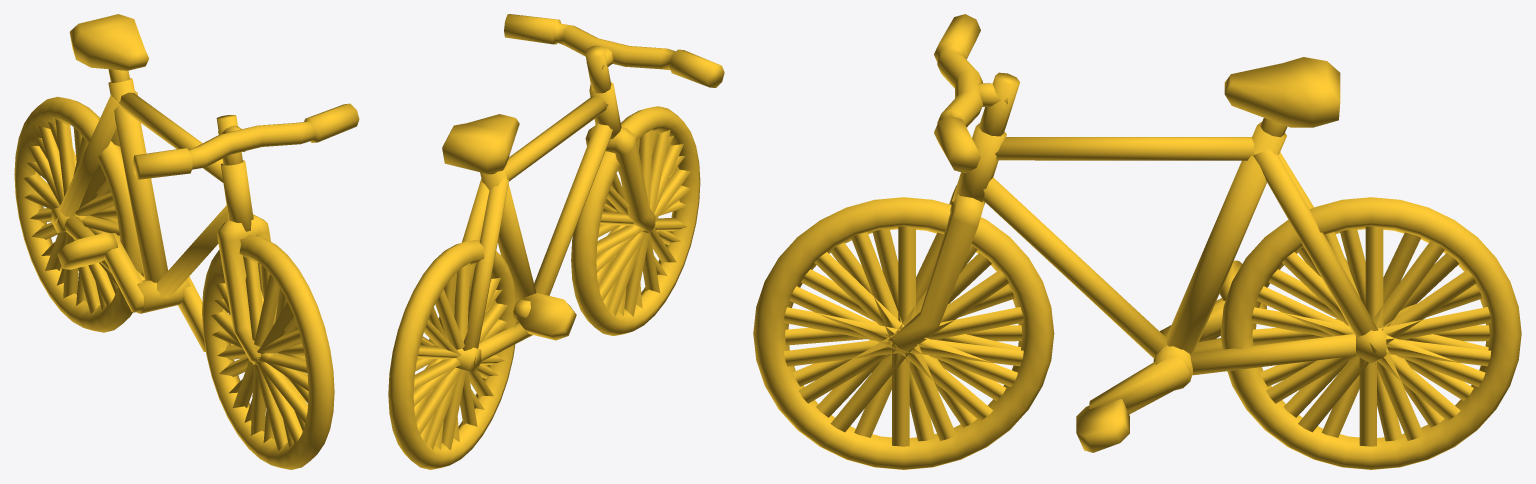
The model's file is Bicycle_outline.fbx.
3 views of the same model, side by side, from view 1: azimuth 30°, elevation 25°; view 2: azimuth 150°, elevation 25°; view 3: azimuth 270°, elevation 25° (orthographic). The views are drawn at different scales.
Visible parts, largest first — view 1: Bicycle_outline; view 2: Bicycle_outline; view 3: Bicycle_outline.
Part boxes in pixels (<box>): Bicycle_outline: <box>14,14,359,469</box>; Bicycle_outline: <box>388,14,724,469</box>; Bicycle_outline: <box>753,14,1521,469</box>.
Bounding box in the file's own units: 0.4325 × 0.6006 × 1.05.
